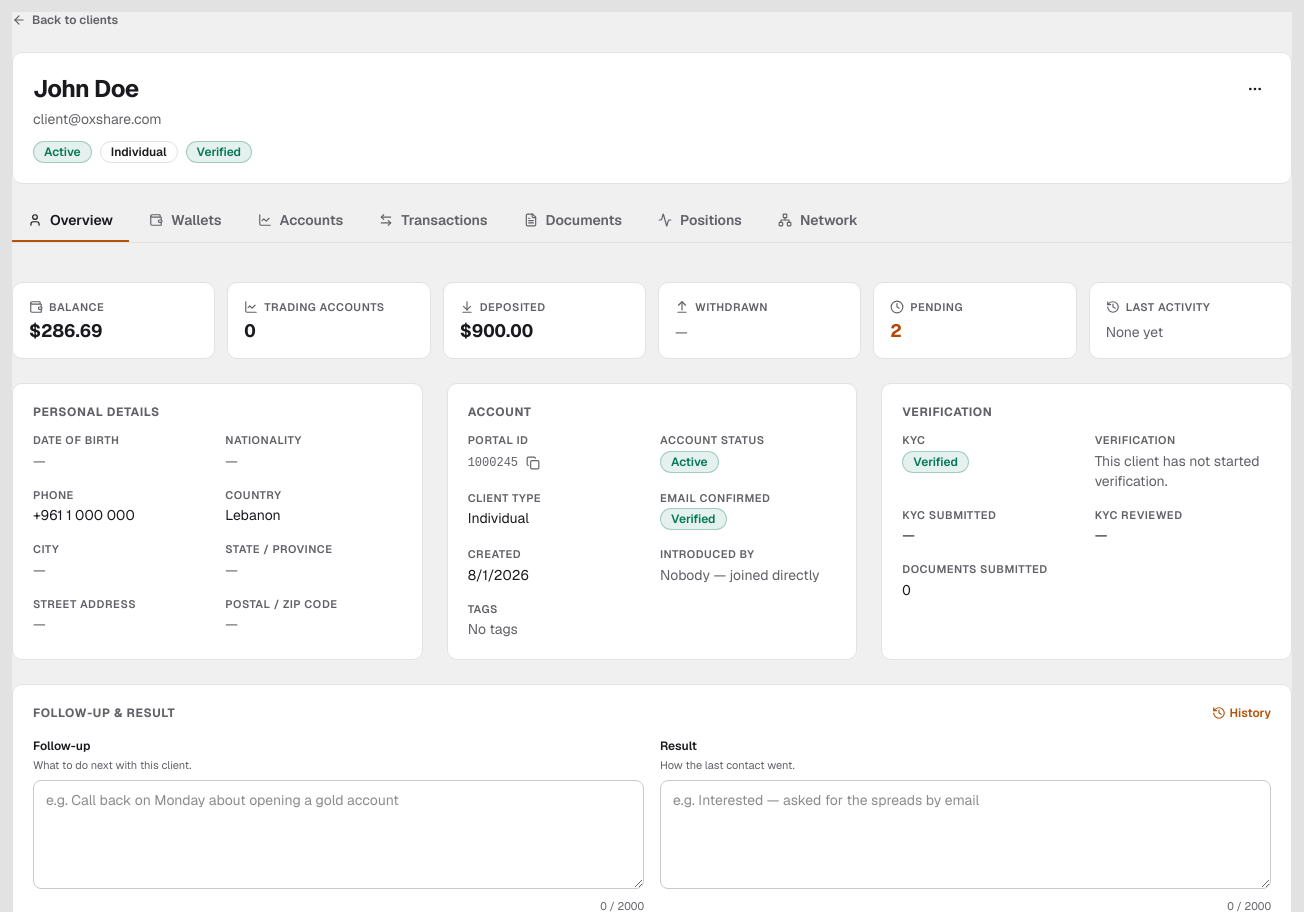
it: the actions menu (owner, 26 Sep and 7 Oct 2026) › offers none of them to an admin without the partner keys
Click the button named "actions for" at (1255,89), box [1239,73,1271,105]
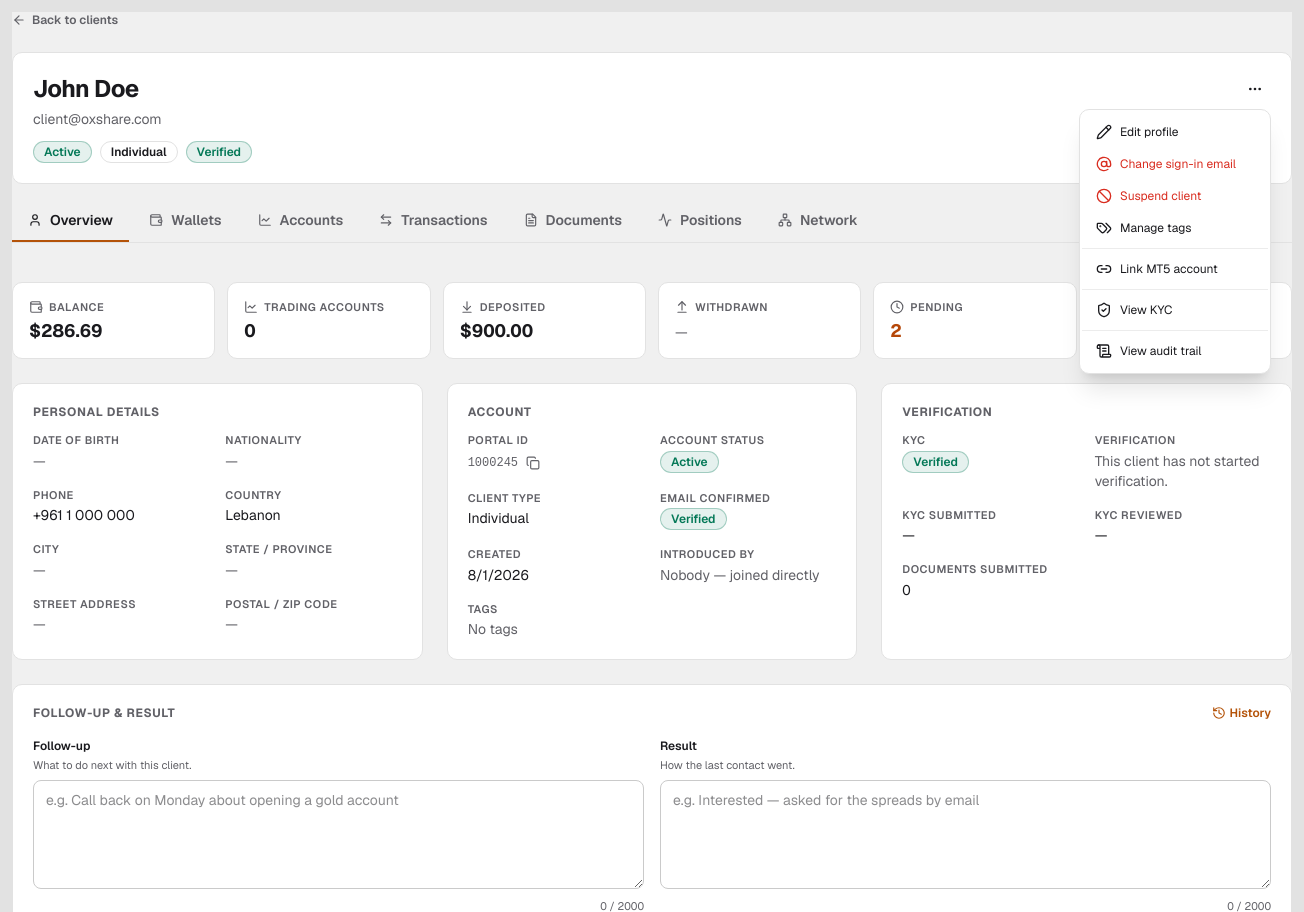
Now the menu item "Edit profile" is shown, box [1096,124,1179,140]
